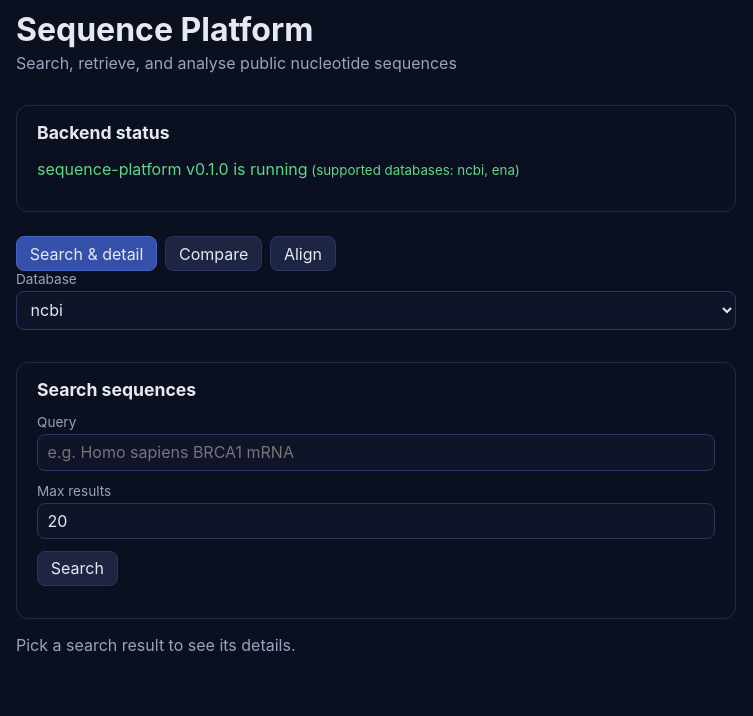
Test case: App › switches to the comparison panel
What coordinates should you click on to do the following:
click the button "Compare"
I would click on:
 (214, 254)
Its box is [165, 236, 262, 271].
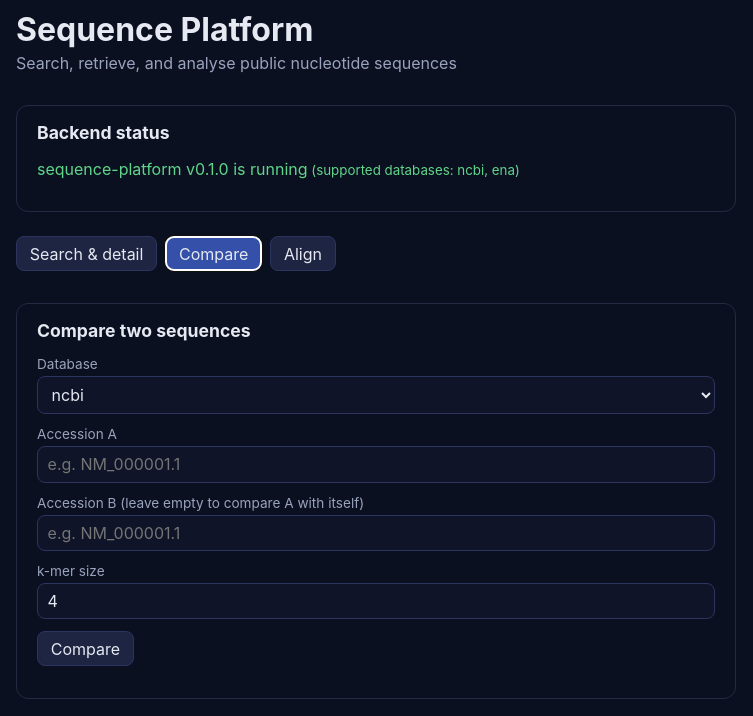
Result: the field labelled "Accession A" is shown at [37, 446, 715, 483]
Result: the dropdown with test id "comparison-database-select" is shown at [37, 376, 715, 414]
